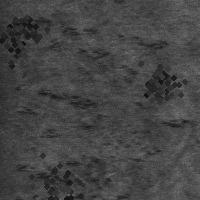rolled-in_scale: (25, 27, 166, 158), (15, 117, 191, 194), (17, 147, 97, 200), (0, 1, 51, 67), (129, 53, 185, 109)
